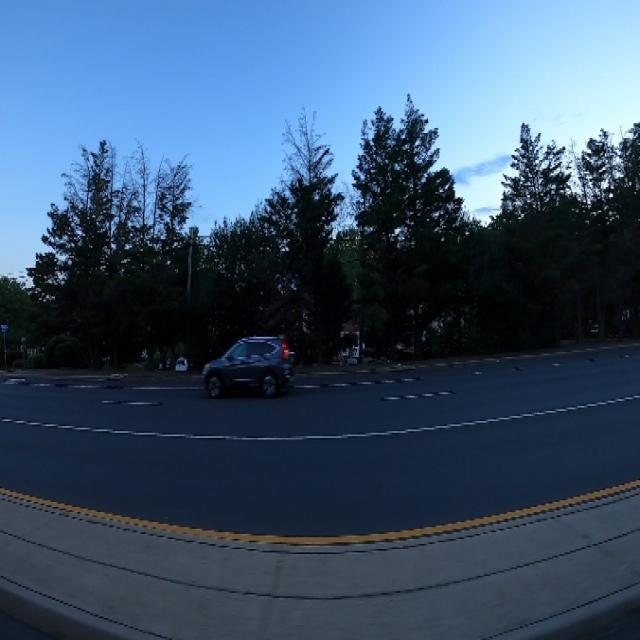cars: (198, 328, 296, 402)
